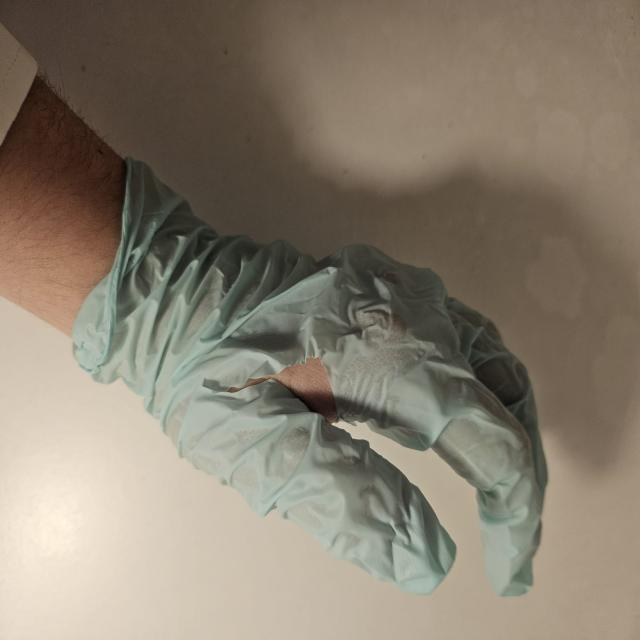gloves_damaged: (66, 153, 550, 602)
